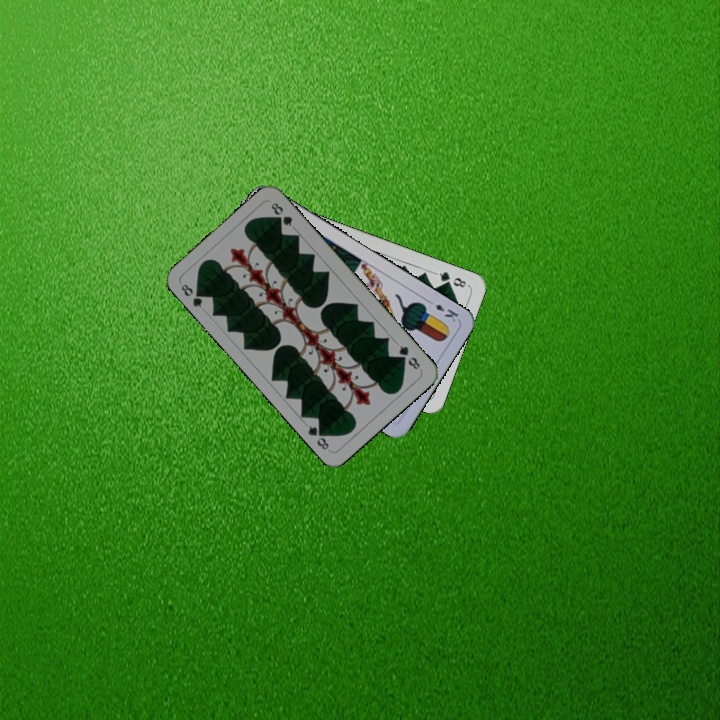EK: (423, 295, 461, 325)
G8: (177, 280, 207, 311), (395, 341, 424, 373), (431, 267, 471, 290)
